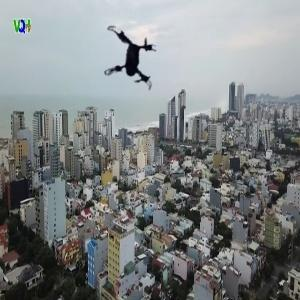drone: (84, 19, 170, 105)
